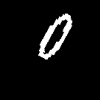chain: (39, 14, 71, 58)
